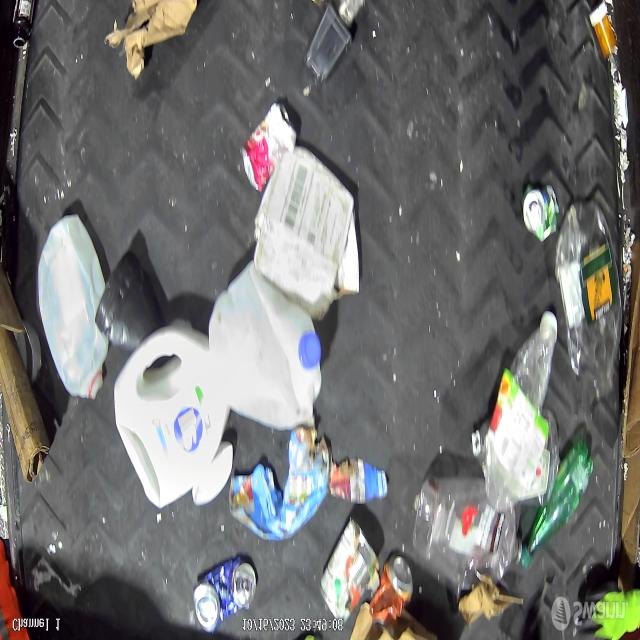can: (320, 518, 379, 622), (193, 556, 255, 630), (244, 108, 296, 192), (371, 553, 413, 626), (522, 179, 560, 243)
milk_jug: (113, 320, 232, 509), (209, 265, 323, 432), (38, 215, 110, 399)
plastic_bottle: (482, 312, 561, 507), (556, 202, 622, 402), (416, 472, 528, 582)
